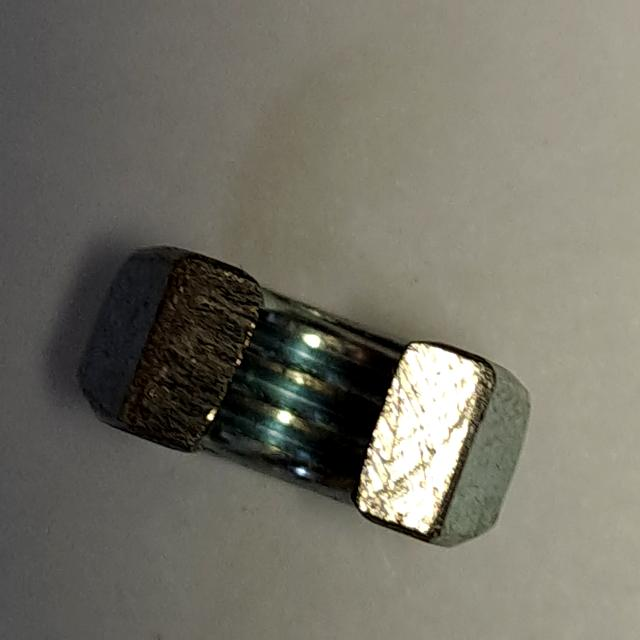Side-Fracture: (62, 230, 553, 567)
